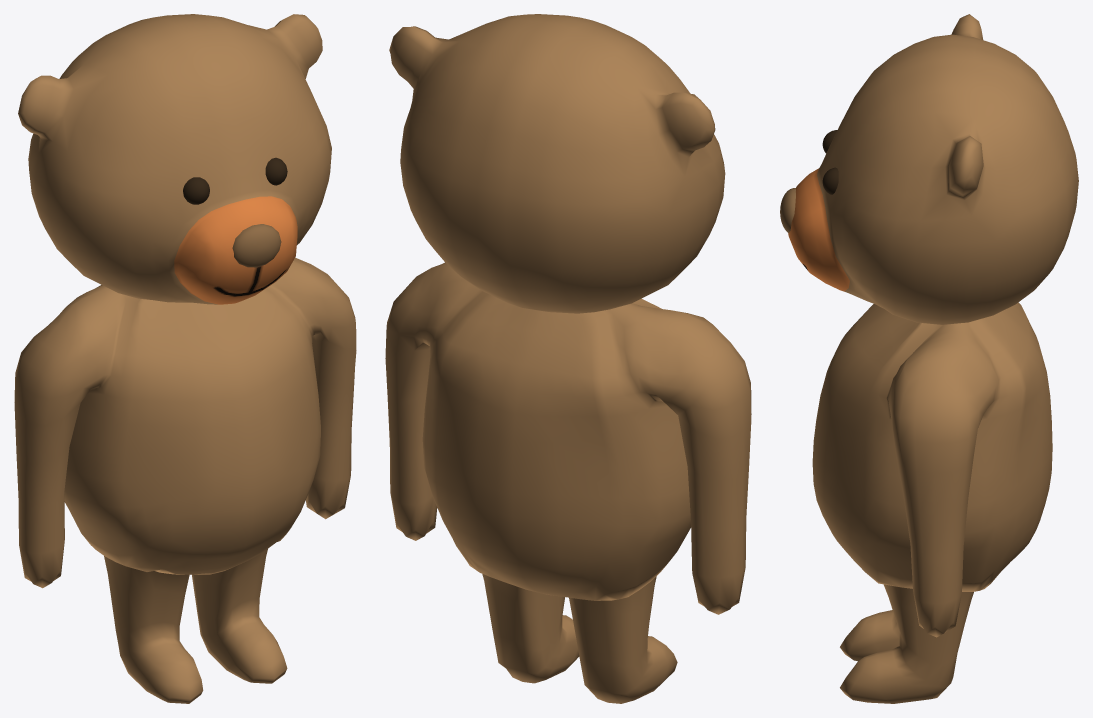
The model's file is Frinchfry.fbx.
The picture shows the model from 3 angles, left to right: view 1: azimuth 30°, elevation 25°; view 2: azimuth 150°, elevation 25°; view 3: azimuth 270°, elevation 25°; orthographic projection. The views are drawn at different scales.
Visible parts, largest first — view 1: Frinchfry; view 2: Frinchfry; view 3: Frinchfry.
Boxes of the visible parts, x1,y1,x2,y2 form: Frinchfry: [14, 14, 356, 703]; Frinchfry: [385, 14, 751, 703]; Frinchfry: [780, 14, 1078, 703].
Bounding box in the file's own units: 129 × 240 × 103.
